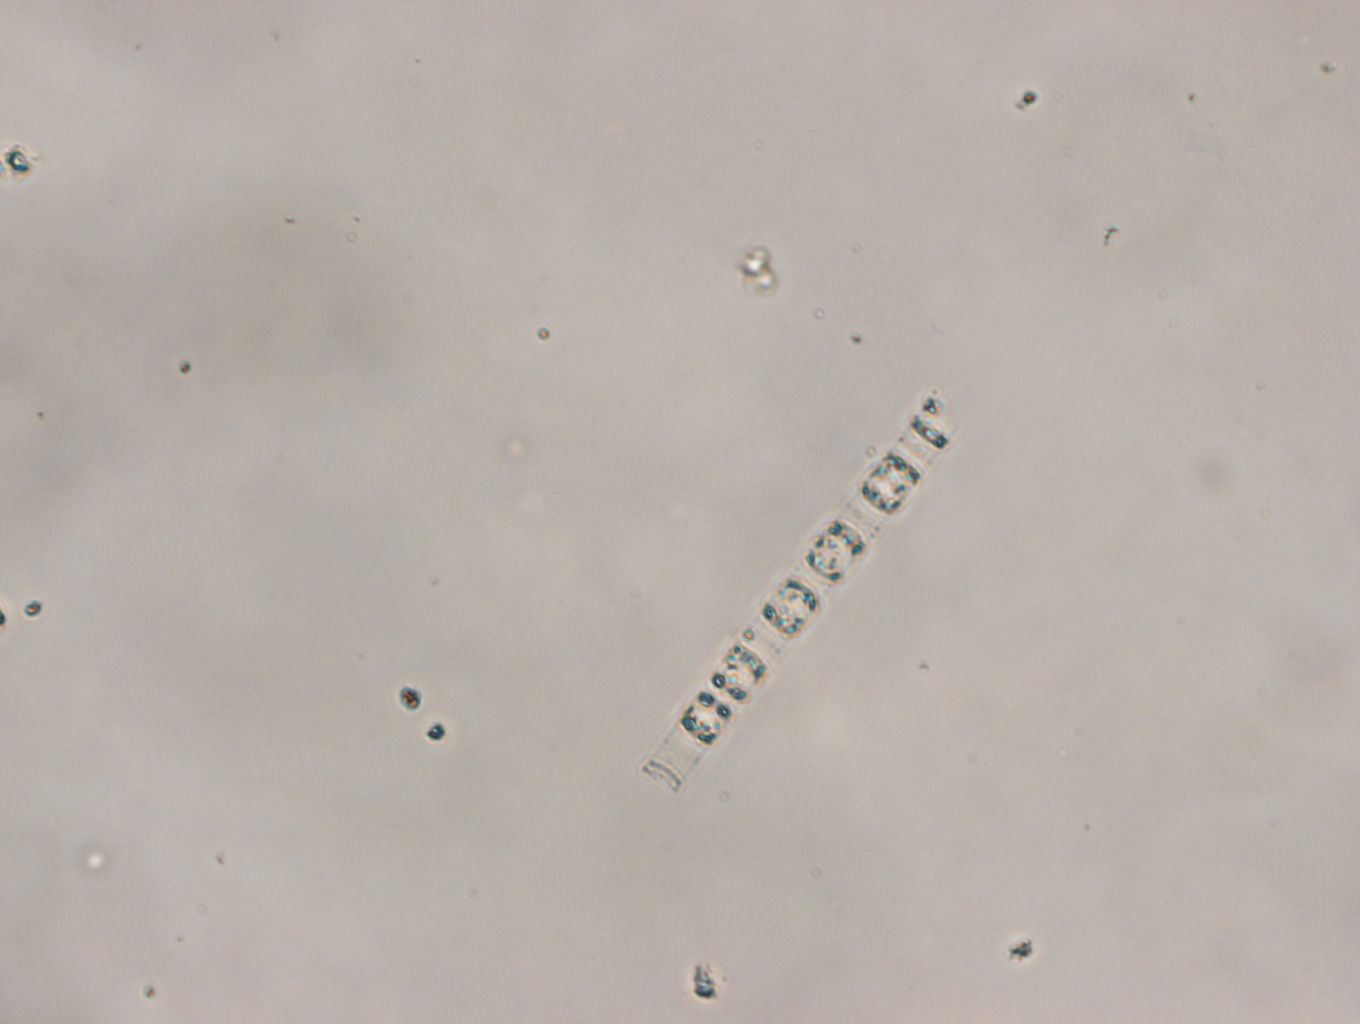skeletonema: (607, 362, 963, 810)
